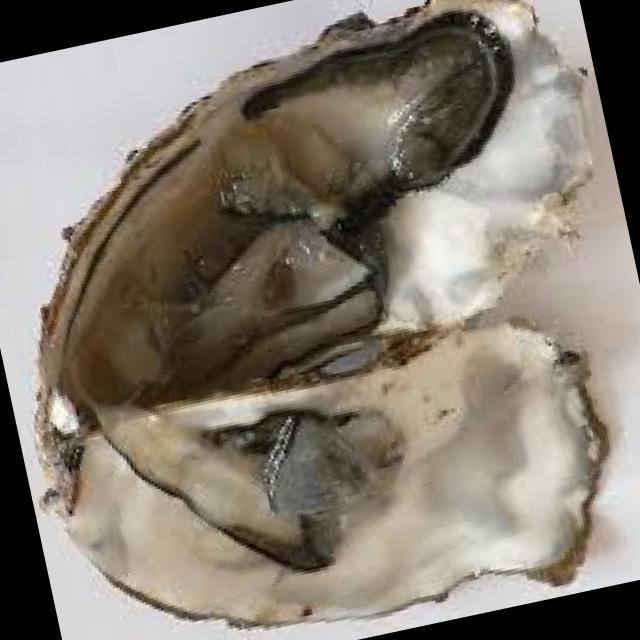Oyster-Open: (42, 0, 589, 406), (69, 324, 609, 625)
